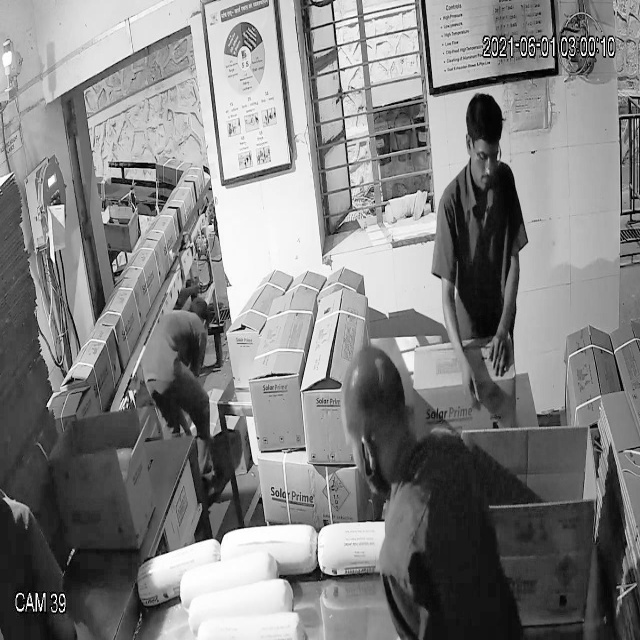Gafas: (460, 132, 505, 175)
